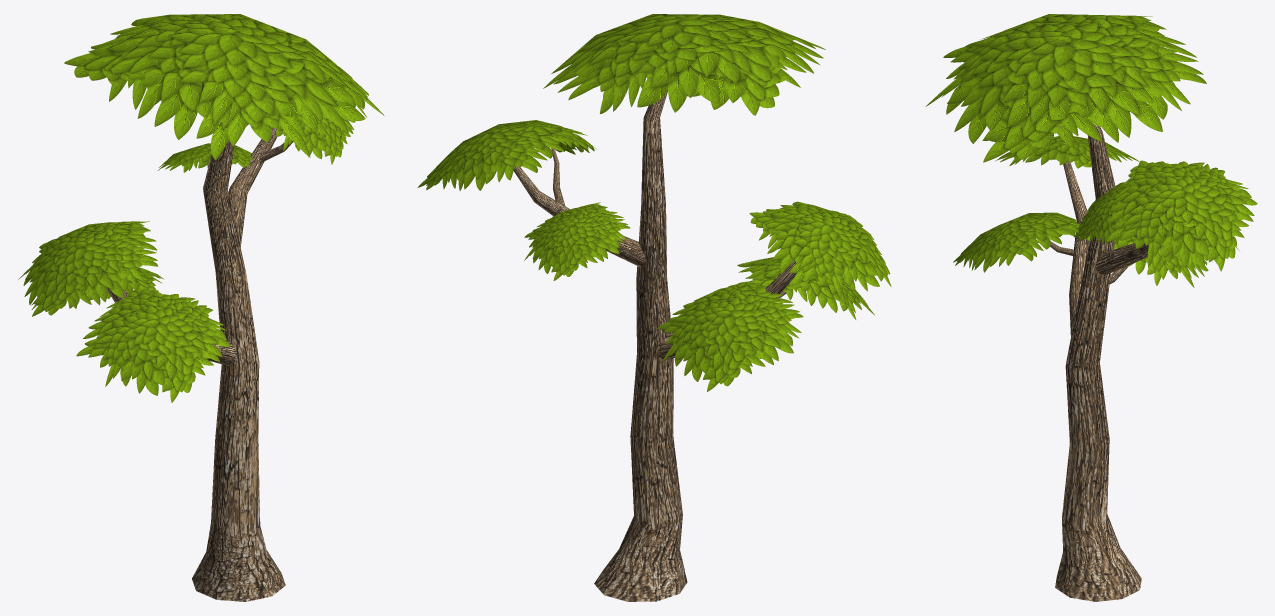
Rendered from Árvore 3.fbx.
The picture shows the model from 3 angles, left to right: view 1: azimuth 30°, elevation 25°; view 2: azimuth 150°, elevation 25°; view 3: azimuth 270°, elevation 25°; orthographic projection. The views are drawn at different scales.
Visible parts, largest first — view 1: Árvore 3; view 2: Árvore 3; view 3: Árvore 3.
Part boxes in pixels (x1,y1,x2,y2): Árvore 3: (18,14,384,601); Árvore 3: (417,14,891,601); Árvore 3: (925,14,1257,601).
Size of the model in its own units: 7.02 by 9.5 by 5.52.
